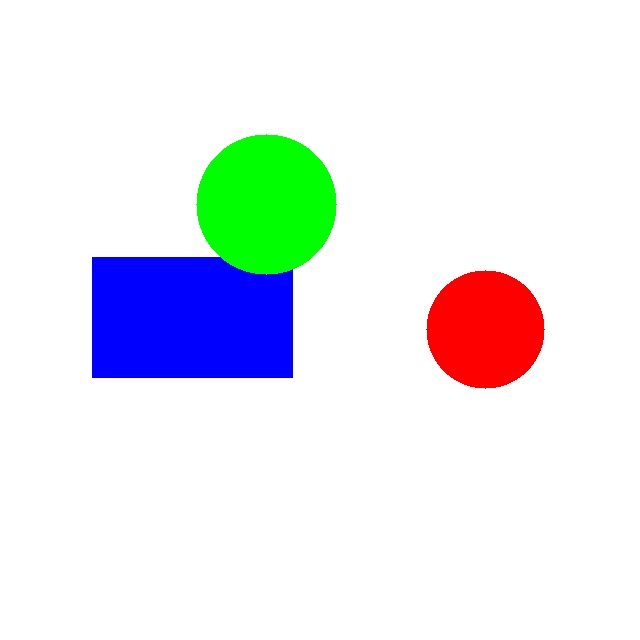cartao: (92, 257, 292, 377)
rosca_externa: (196, 134, 336, 274)
rosca_interna: (426, 270, 544, 388)
